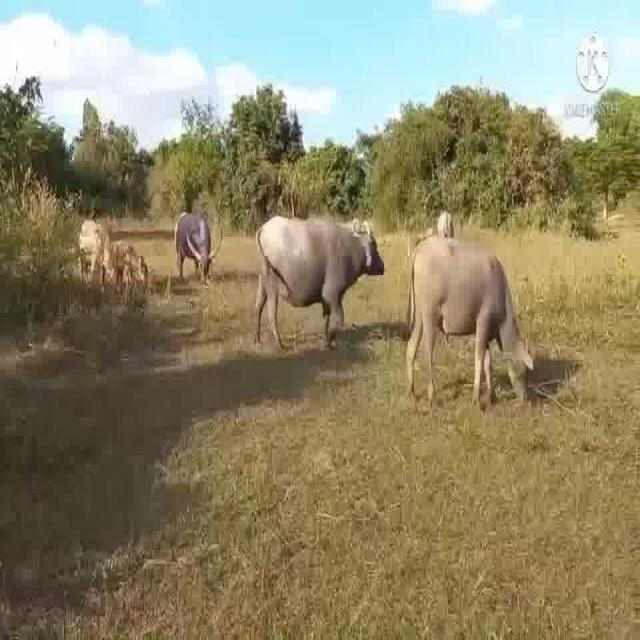buffalo: (404, 232, 535, 415), (256, 209, 389, 352), (174, 207, 220, 285)
